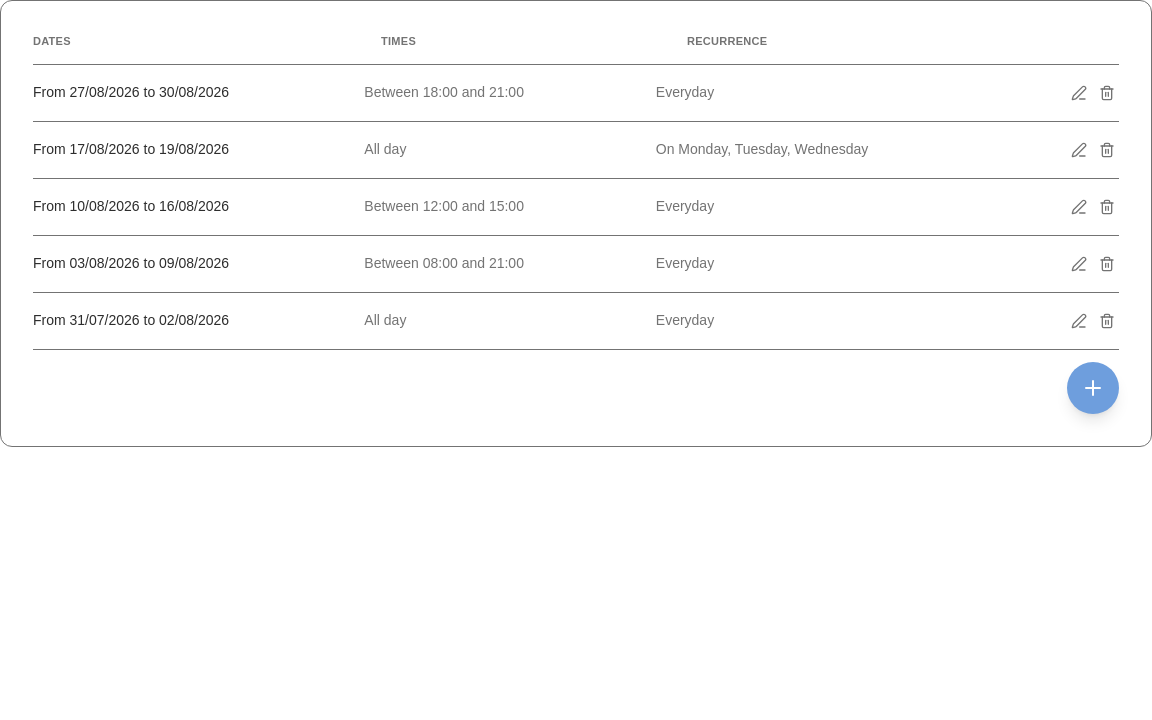
Test case: Availability › adds a new entry to the top of the list from the modal
Click the button named "Add availability": coordinates (1093, 388) [1067,362,1119,414]
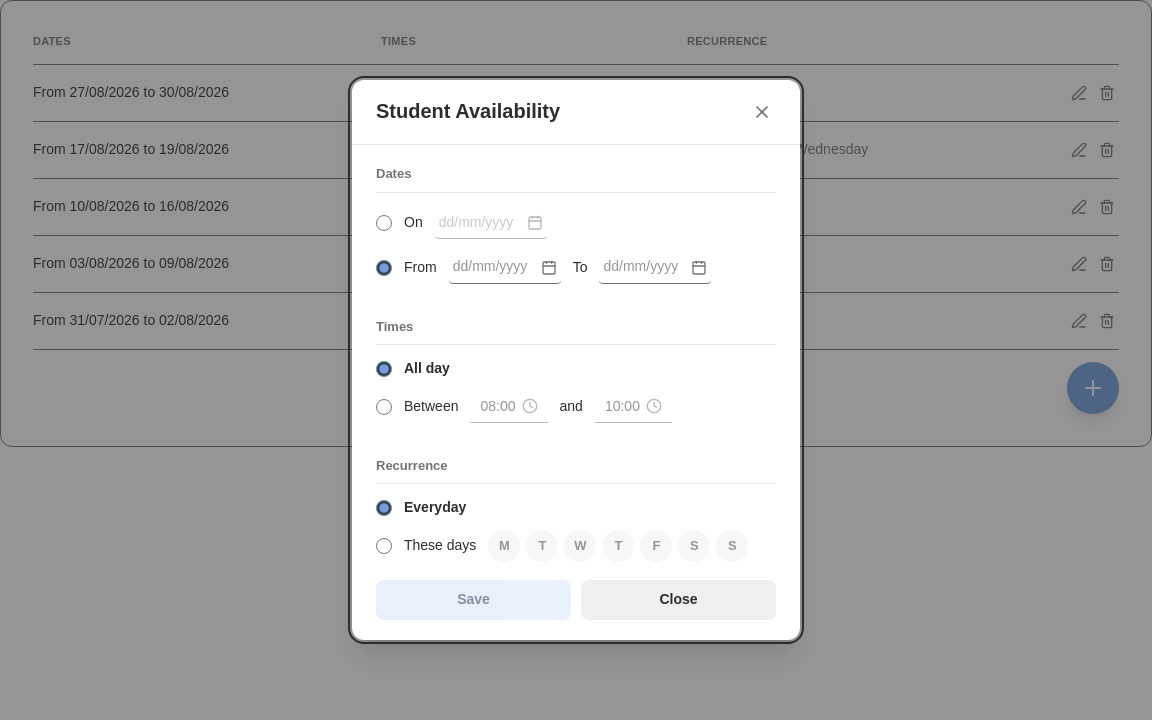
Expected: the dialog "Student Availability" is shown, [352,80,800,640]
In the field named "From date": coordinates (505, 268) [449,251,561,284], type "20/08/2026"
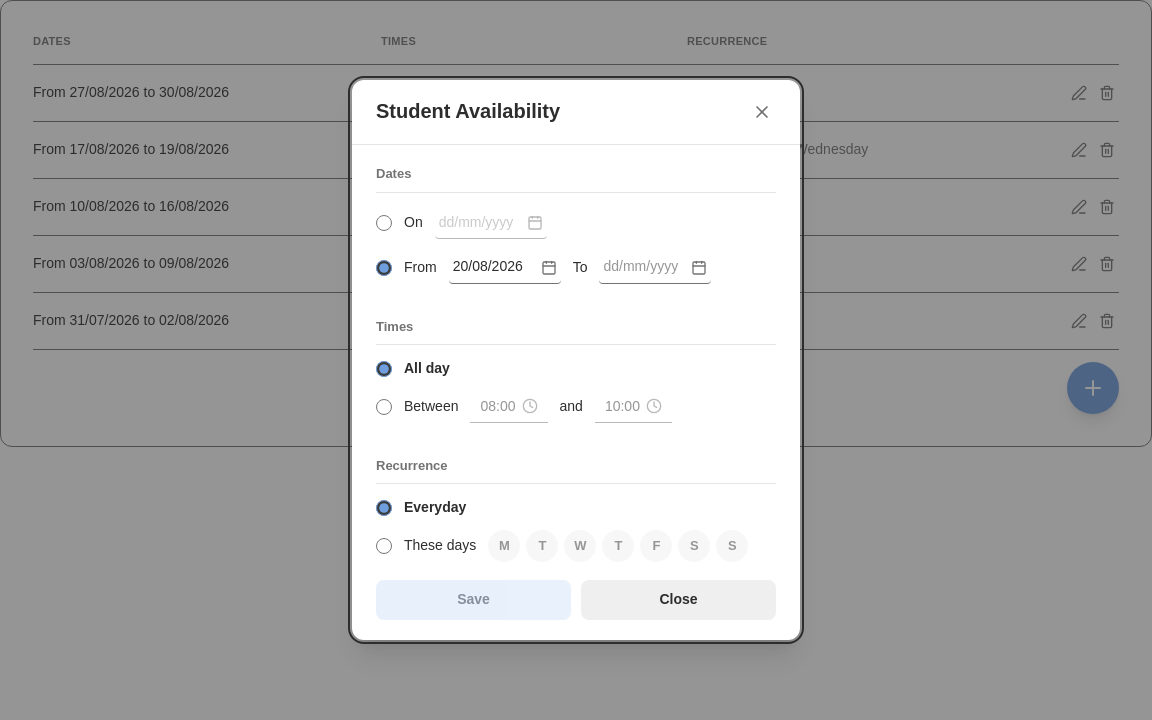
In the field named "To date": coordinates (656, 268) [600,251,712,284], type "25/08/2026"
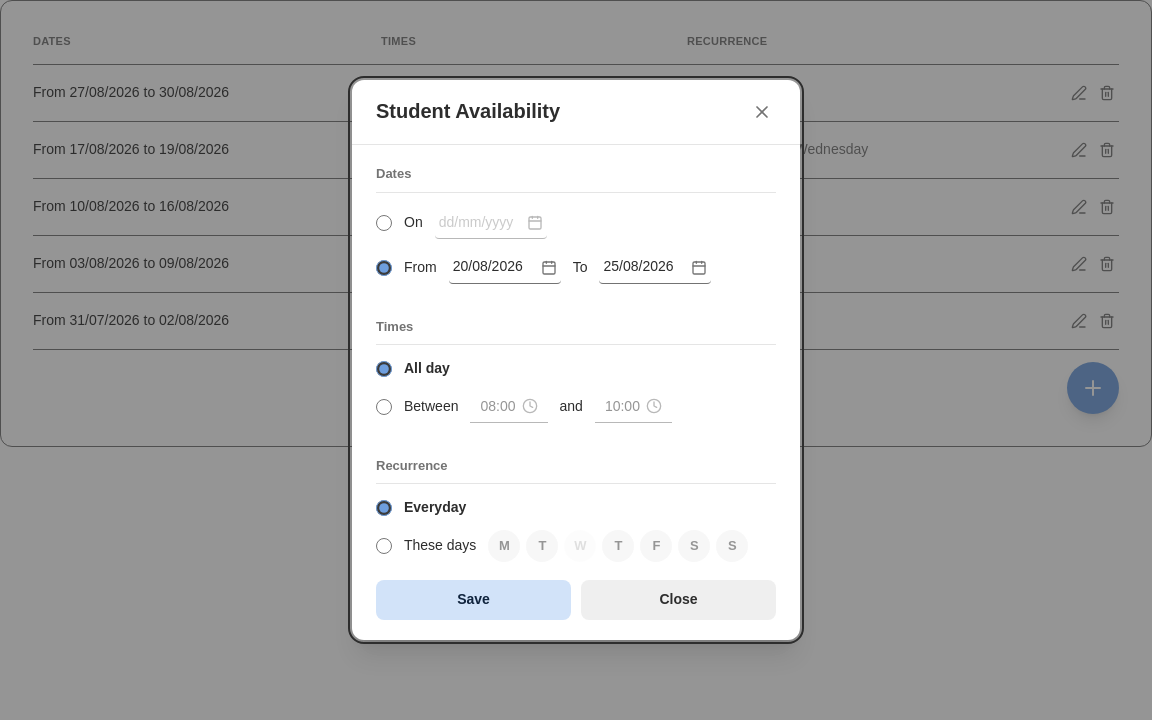
Click the button "Save": coordinates (474, 600) [376,580,571,620]
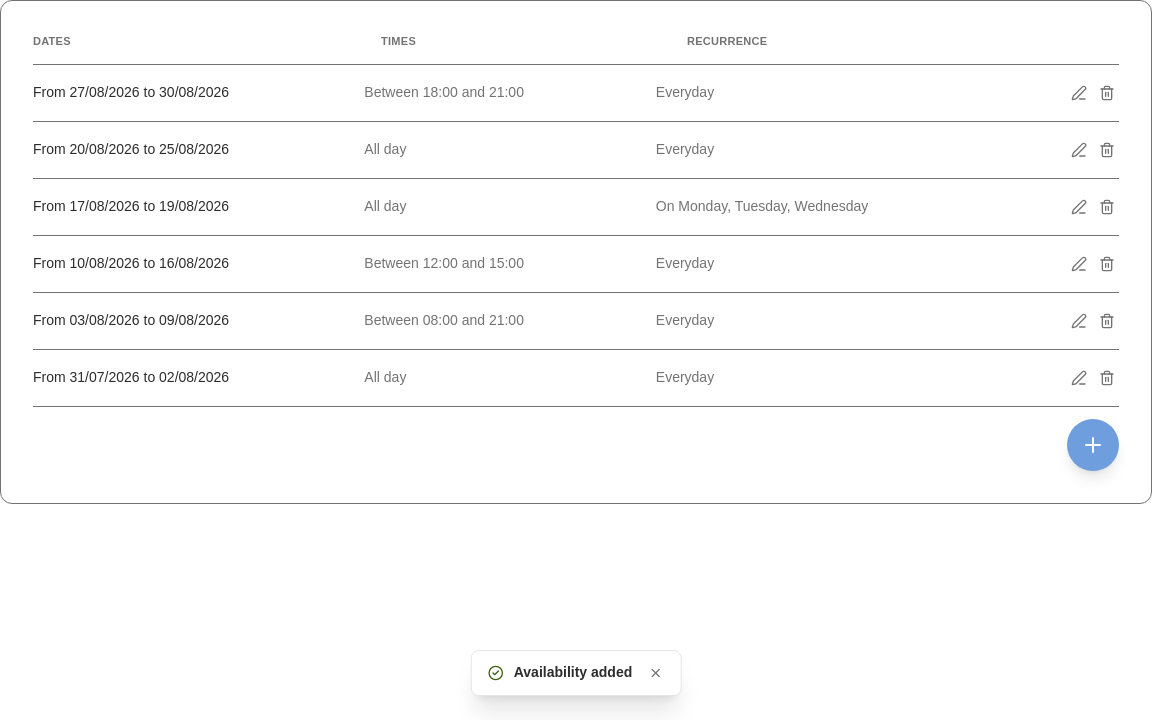
Expected: the text "From 20/08/2026 to 25/08/2026" is shown, [33,141,229,157]
Expected: the heading "Student Availability" is gone
Expected: the message reads "Availability added", [514,664,632,680]
